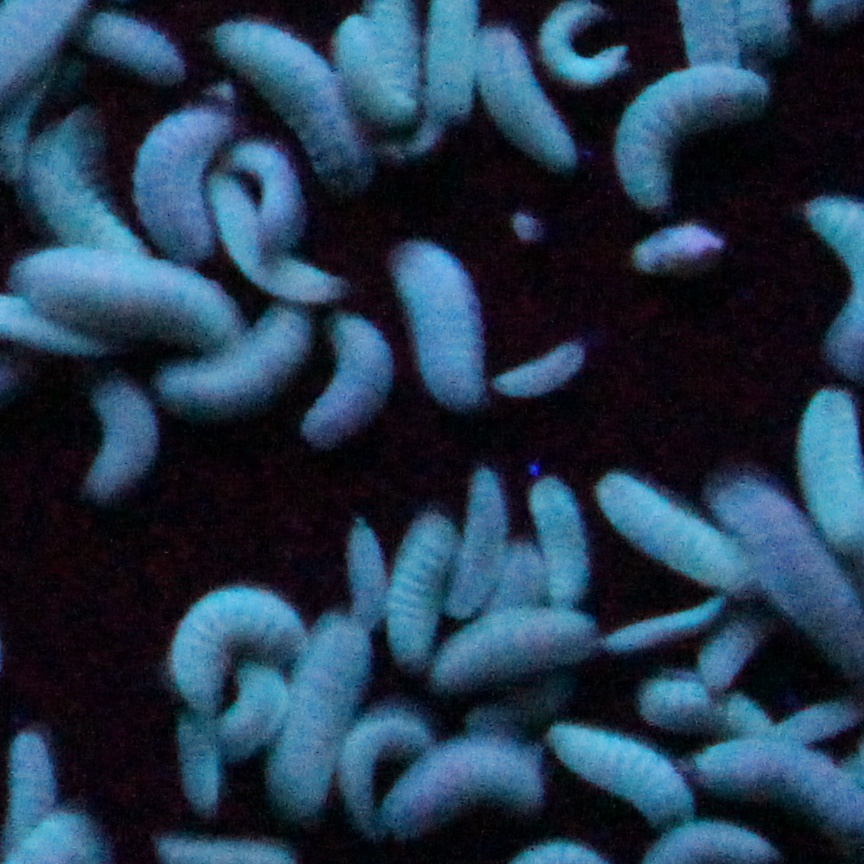larve: (214, 19, 368, 185), (21, 244, 248, 348), (623, 62, 771, 214), (591, 460, 761, 585), (268, 614, 368, 825), (132, 107, 248, 264), (389, 232, 493, 407), (173, 578, 307, 710), (200, 180, 341, 303), (475, 23, 580, 182), (25, 130, 157, 255), (427, 598, 593, 694), (141, 312, 321, 398), (389, 735, 546, 832), (550, 721, 711, 814), (298, 300, 393, 453), (336, 710, 441, 819), (391, 507, 450, 666), (232, 139, 311, 255), (448, 466, 509, 616), (86, 382, 164, 494), (2, 725, 73, 841), (541, 3, 632, 91), (91, 16, 209, 80), (525, 478, 586, 600), (339, 503, 393, 637), (218, 666, 298, 739), (475, 346, 591, 396), (634, 666, 730, 725), (630, 223, 732, 275), (605, 607, 736, 646), (177, 710, 227, 812), (691, 632, 771, 685)
